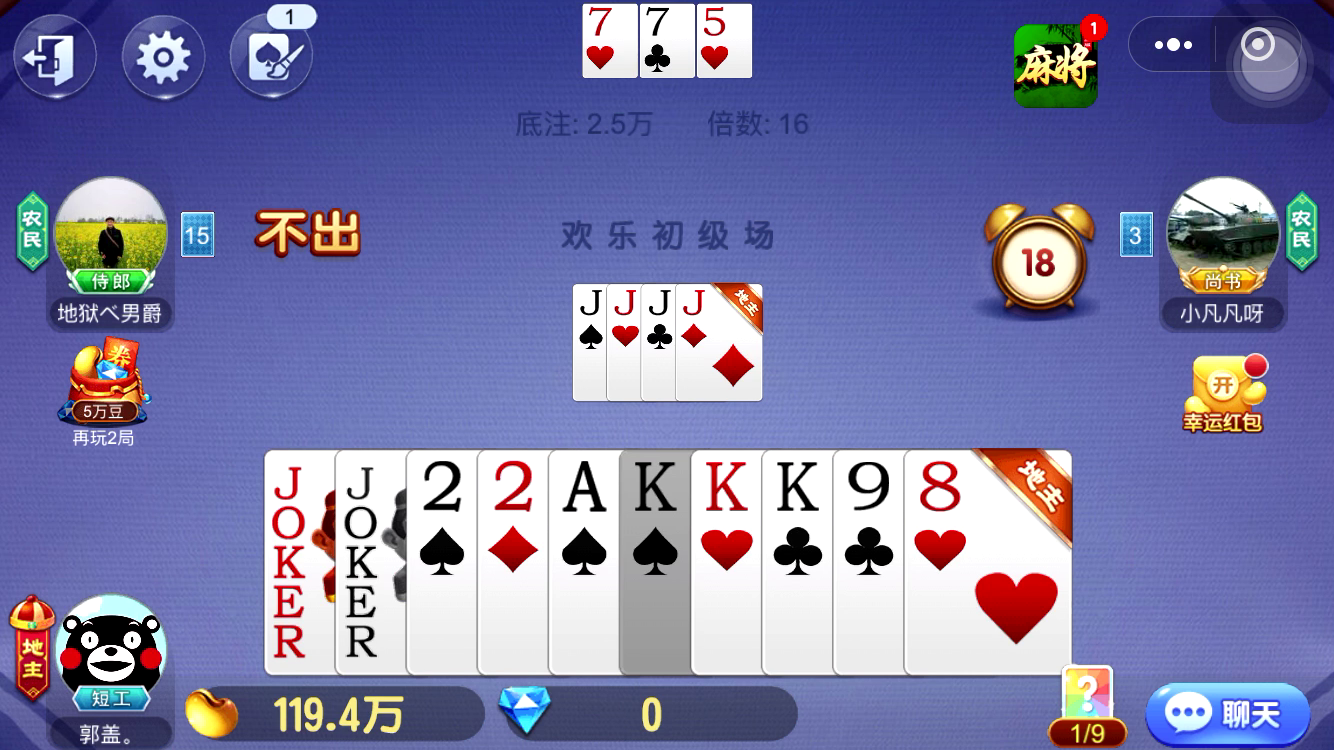A: (554, 454, 614, 534)
J: (574, 285, 608, 330), (677, 285, 711, 326), (609, 283, 641, 324), (643, 285, 674, 327)
JOKER: (261, 451, 326, 591)
K: (624, 453, 688, 530), (767, 454, 829, 532), (695, 454, 760, 528)
eight: (910, 458, 975, 531)
five: (698, 5, 735, 48)
joker: (336, 458, 390, 589)
nine: (838, 456, 901, 535)
seven: (583, 4, 622, 47), (644, 1, 679, 45)
two: (410, 453, 475, 531), (482, 456, 544, 532)
